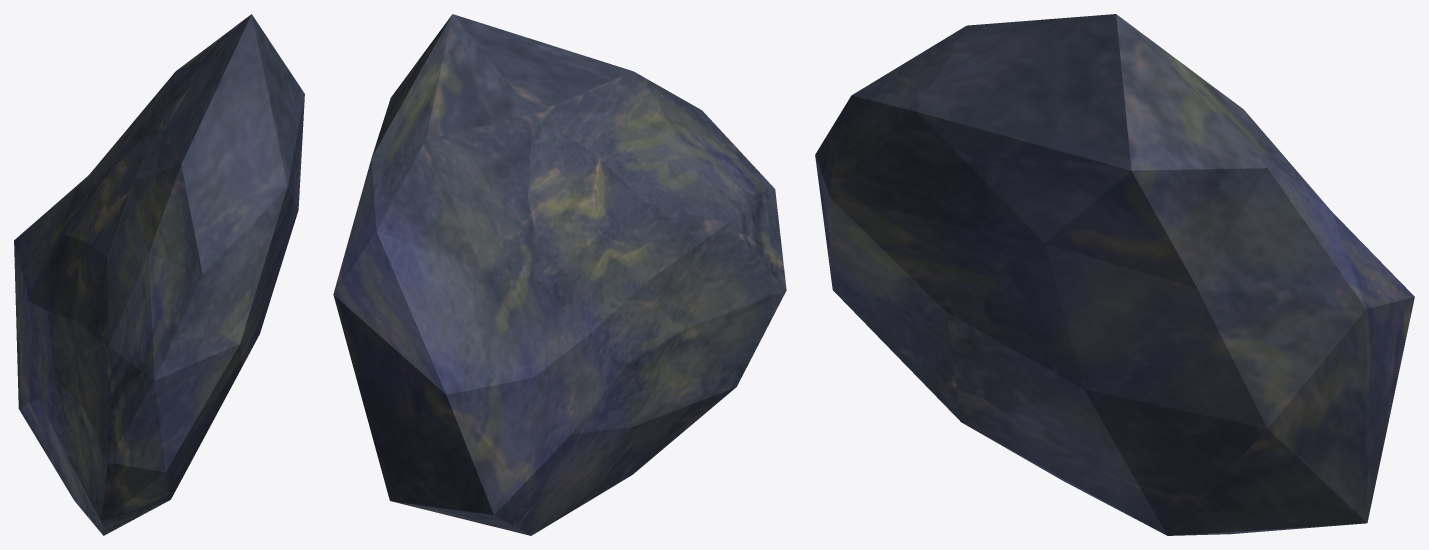
File: MS-Rock03.fbx
3 renders of one model, left to right at view 1: azimuth 30°, elevation 25°; view 2: azimuth 150°, elevation 25°; view 3: azimuth 270°, elevation 25°, orthographic. The views are drawn at different scales.
Parts seen in each view (by area): view 1: Icosphere.002; view 2: Icosphere.002; view 3: Icosphere.002.
Boxes of the visible parts, box(x1,y1,x2,y2) form: Icosphere.002: box(14, 14, 304, 535); Icosphere.002: box(333, 14, 786, 535); Icosphere.002: box(815, 14, 1414, 535).
Bounding box in the file's own units: 300 × 453 × 412.
